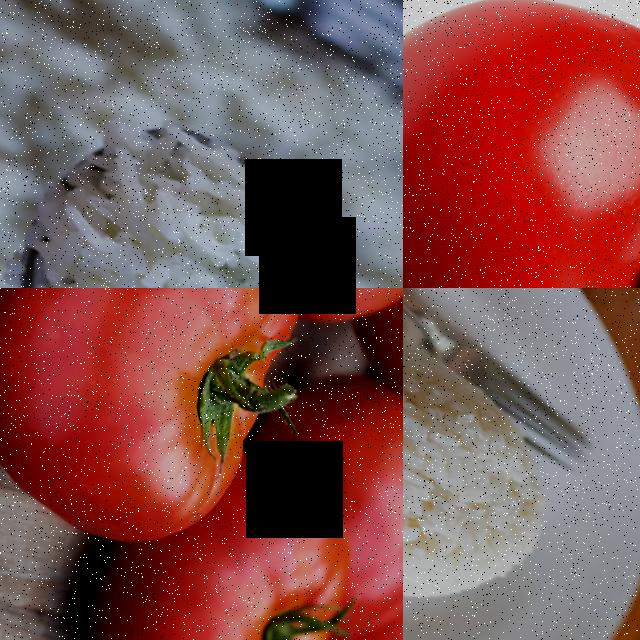tomato: (0, 288, 363, 597), (403, 0, 640, 288), (135, 439, 396, 640)
white rice: (21, 96, 321, 288), (403, 288, 542, 638)
